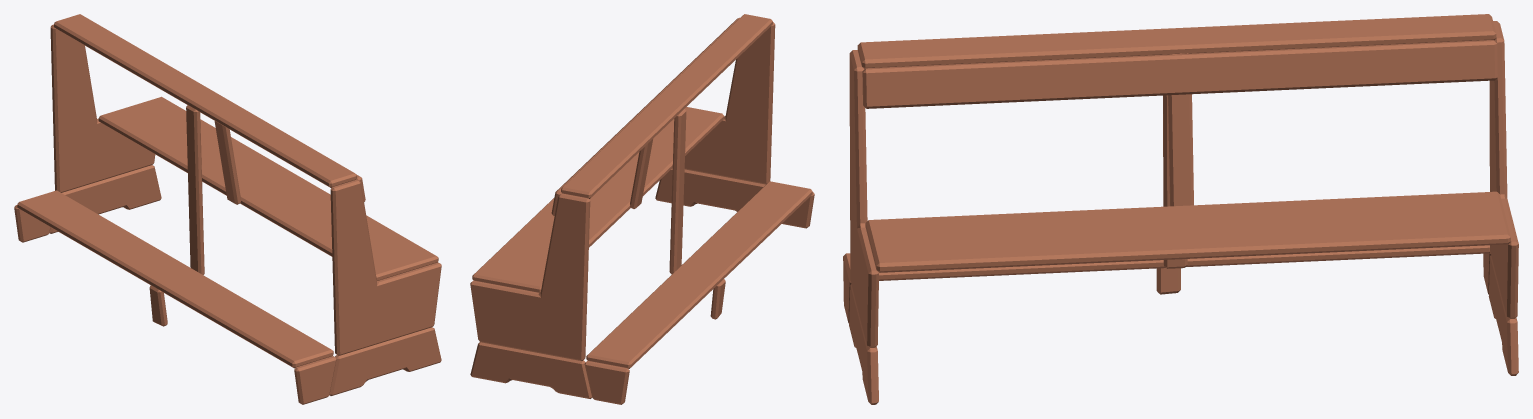
Rendered from BANCO.fbx.
3 renders of one model, left to right at view 1: azimuth 30°, elevation 25°; view 2: azimuth 150°, elevation 25°; view 3: azimuth 270°, elevation 25°, orthographic. The views are drawn at different scales.
Parts seen in each view (by area): view 1: Cubo.046; view 2: Cubo.046; view 3: Cubo.046.
Boxes of the visible parts, x1,y1,x2,y2 form: Cubo.046: [14, 14, 441, 404]; Cubo.046: [470, 14, 814, 404]; Cubo.046: [843, 14, 1518, 404].
Size of the model in its own units: 1.01 by 1.03 by 2.19.
